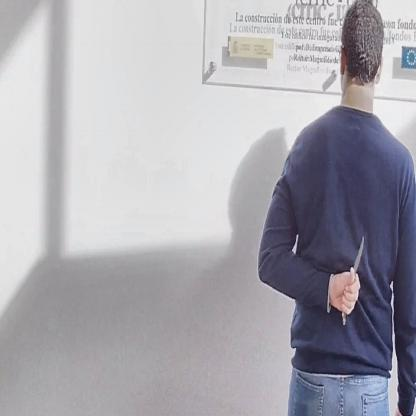knife: (339, 226, 369, 329)
